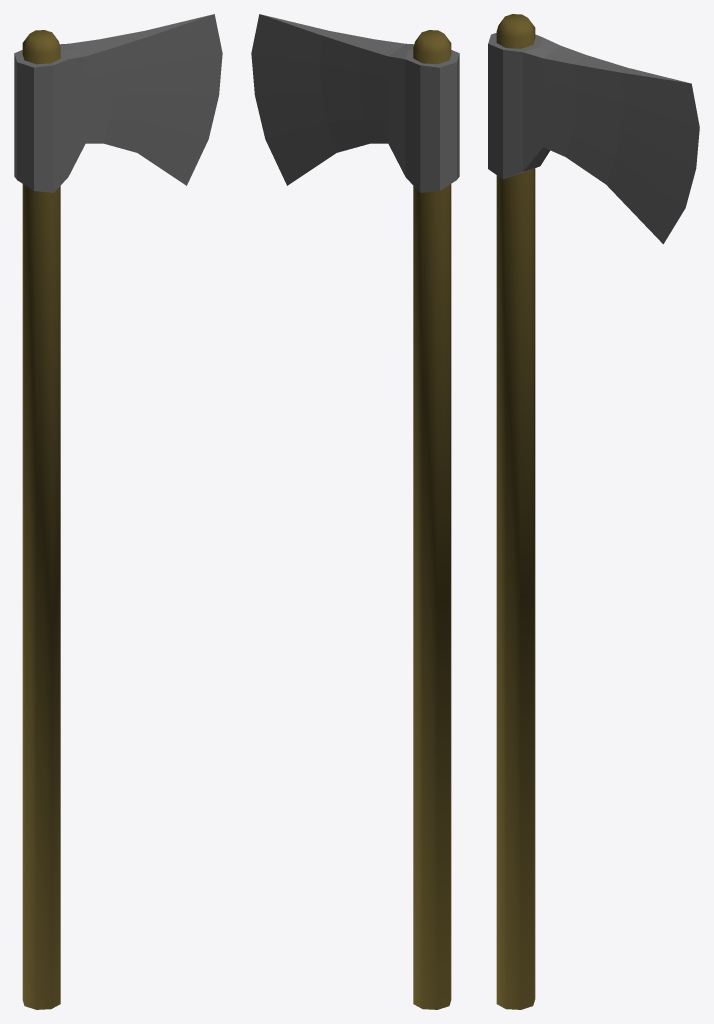
The model's file is Axe.gltf.
3 renders of one model, left to right at view 1: azimuth 30°, elevation 25°; view 2: azimuth 150°, elevation 25°; view 3: azimuth 330°, elevation 25°, orthographic.
Visible parts, largest first — view 1: AxeHandle, AxeHead; view 2: AxeHandle, AxeHead; view 3: AxeHandle, AxeHead.
Part boxes in pixels (box(x1,y1,x2,y2)): AxeHandle: box(22, 30, 60, 1009); AxeHead: box(14, 14, 222, 192); AxeHandle: box(413, 30, 451, 1009); AxeHead: box(251, 14, 459, 192); AxeHandle: box(496, 14, 535, 1009); AxeHead: box(488, 33, 699, 244).
Size of the model in its own units: 0.2072 by 0.9315 by 0.0434.
